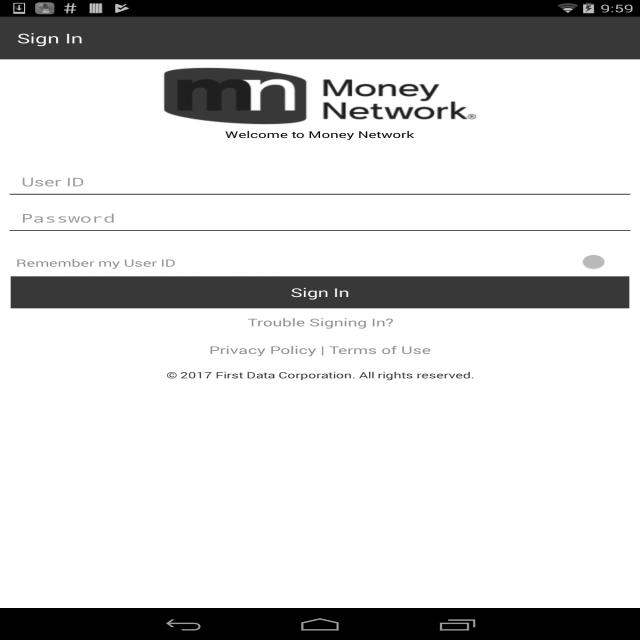Button: (11, 276, 629, 308)
EditText: (5, 163, 635, 200), (5, 200, 635, 236)
ImageView: (163, 60, 477, 124)
Switch: (197, 252, 629, 270)
TextView: (0, 369, 640, 384), (0, 315, 640, 329), (0, 343, 640, 357), (5, 250, 186, 276), (225, 128, 414, 141), (17, 29, 83, 47)
